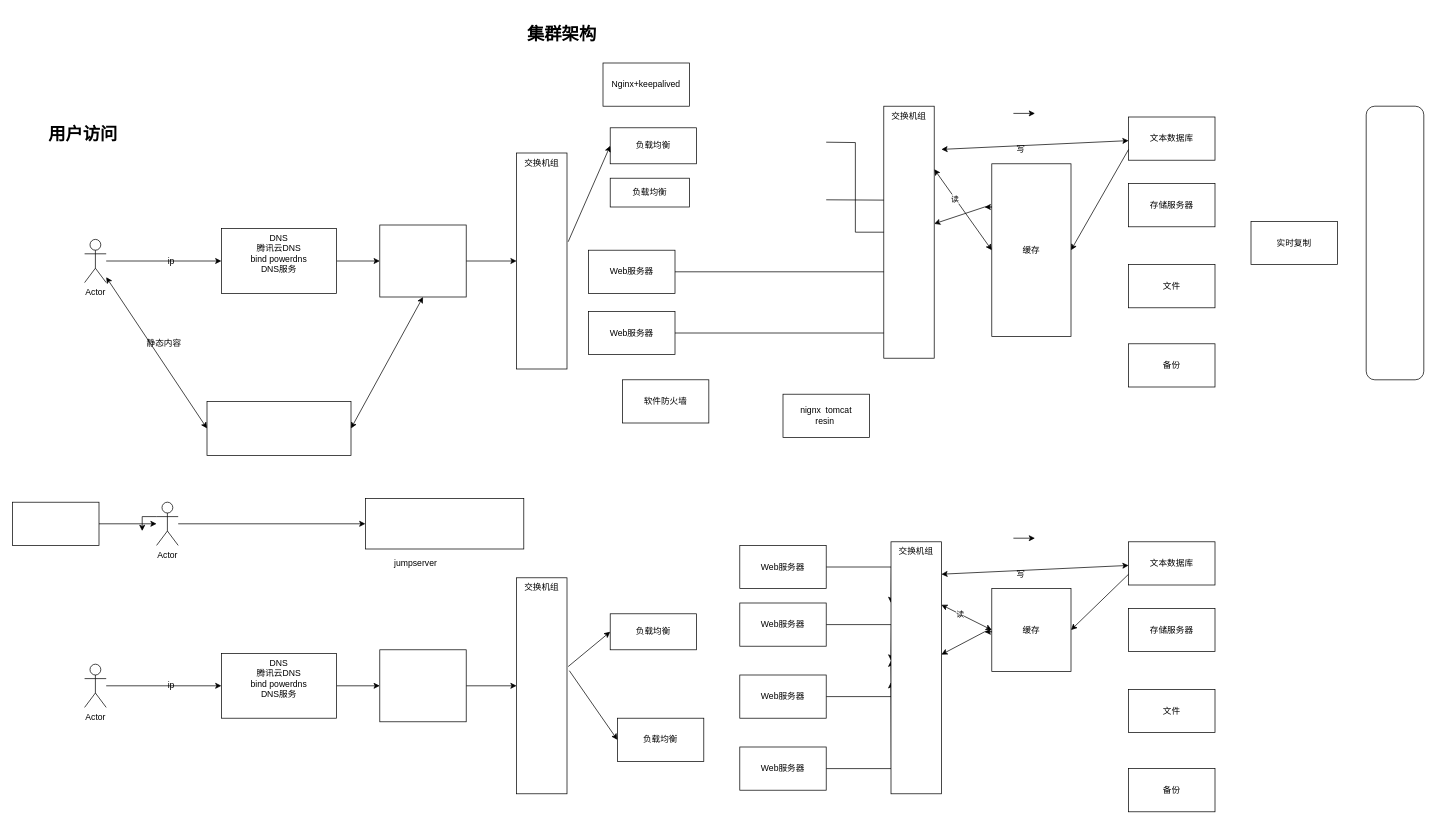
The diagram is 1436 pixels wide and 824 high, and some of its shapes have lost their labels. Each missing label, with the centre of its shape:
"CDN 智能DNS+缓存" belongs at (x=278, y=428).
"日志 收集 存储 处理 展示" belongs at (x=1394, y=242).
"硬件防火墙" belongs at (x=422, y=260).
"跳板机服务" belongs at (x=444, y=523).
"运维管理" belongs at (x=55, y=523).
"防火墙" belongs at (x=422, y=685).
